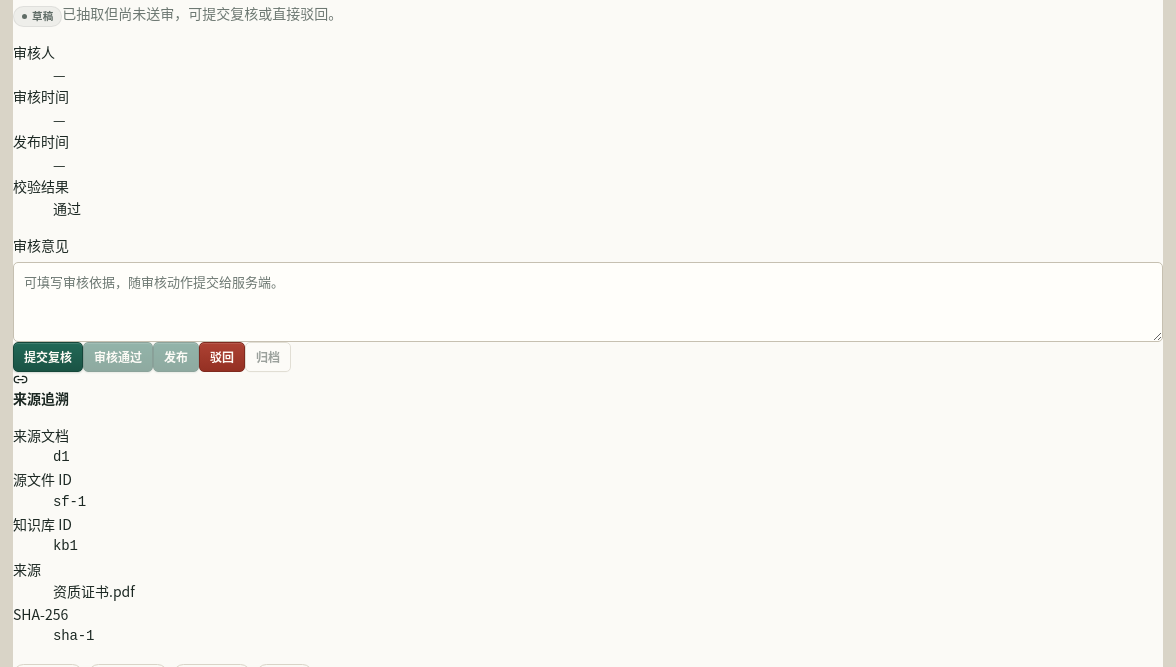
KnowledgeAssetPanel › 审核失败只显示后端错误，状态保持不变
(page scrolled)
Step 1. Click the button "提交复核" → click(48, 357), box [13,342,83,372]
(page scrolled)
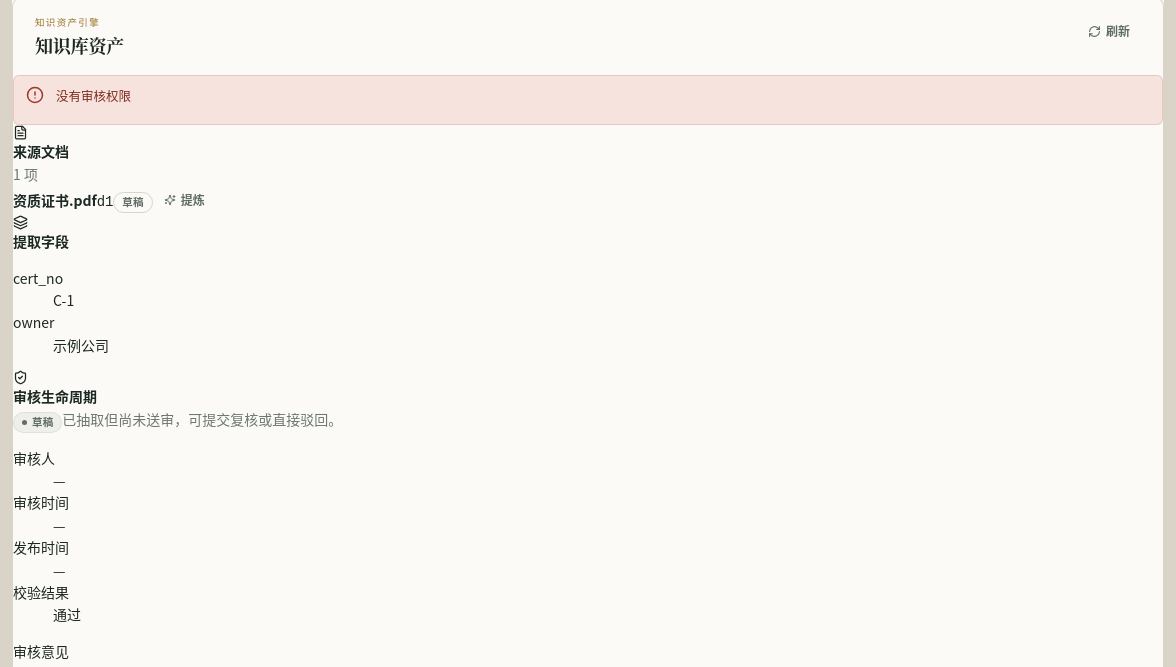
Expected: the text "草稿" is shown, [113,192,153,213]
Expected: the message reads "没有审核权限", [56,86,131,106]
